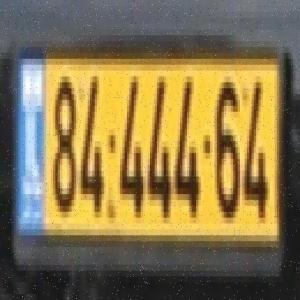Plate: (12, 46, 293, 265)
